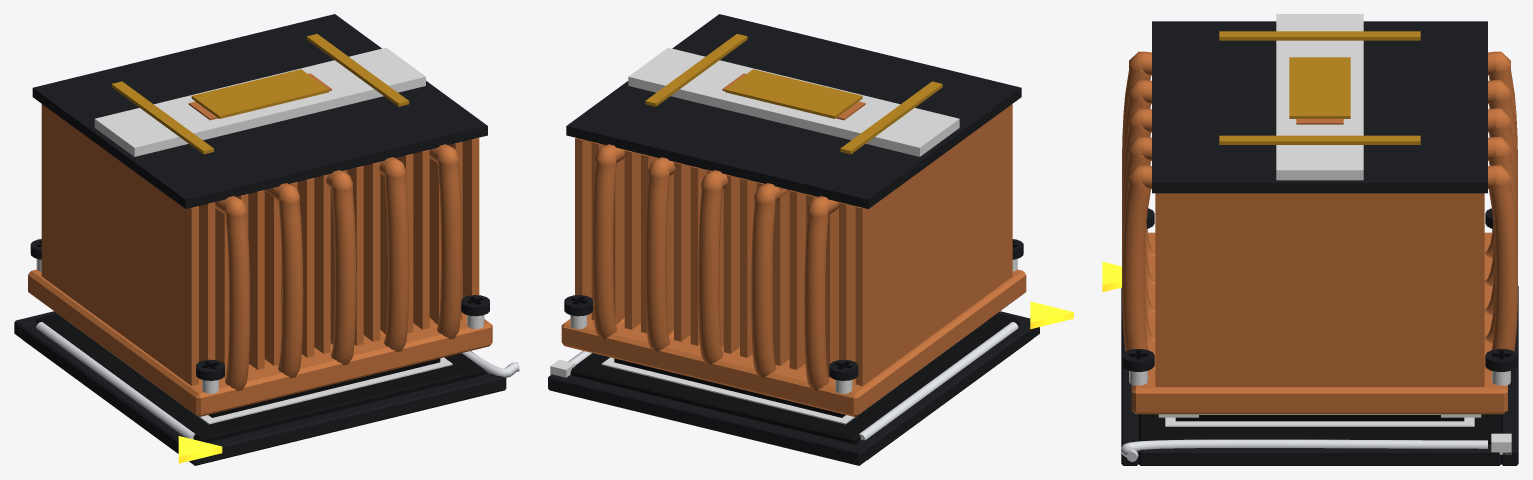
File: hwm_cpu_xeon_6980p.glb
3 renders of one model, left to right at view 1: azimuth 30°, elevation 25°; view 2: azimuth 150°, elevation 25°; view 3: azimuth 270°, elevation 25°, orthographic. The views are drawn at different scales.
Parts seen in each view (by area): view 1: Cooler, Socket, CPU, Screw_3, Screw_1, Lever; view 2: Cooler, Socket, CPU, Screw_0, Screw_2; view 3: Cooler, Socket, Lever, CPU, Screw_2, Screw_3, Frame.
Part boxes in pixels (x1,y1,x2,y2): Cooler: (28, 14, 492, 416); Socket: (14, 311, 506, 465); CPU: (208, 358, 440, 417); Screw_3: (461, 295, 489, 329); Screw_1: (196, 359, 224, 393); Lever: (462, 351, 519, 377); Cooler: (561, 14, 1026, 416); Socket: (548, 301, 1073, 465); CPU: (614, 358, 845, 417); Screw_0: (829, 359, 858, 393); Screw_2: (564, 295, 593, 329); Cooler: (1122, 14, 1517, 414); Socket: (1102, 261, 1518, 465); Lever: (1121, 439, 1487, 461); CPU: (1175, 415, 1464, 421); Screw_2: (1485, 349, 1517, 385); Screw_3: (1122, 349, 1154, 385); Frame: (1158, 414, 1481, 417).
Size of the model in its own units: 0.1338 by 0.0974 by 0.1239.
